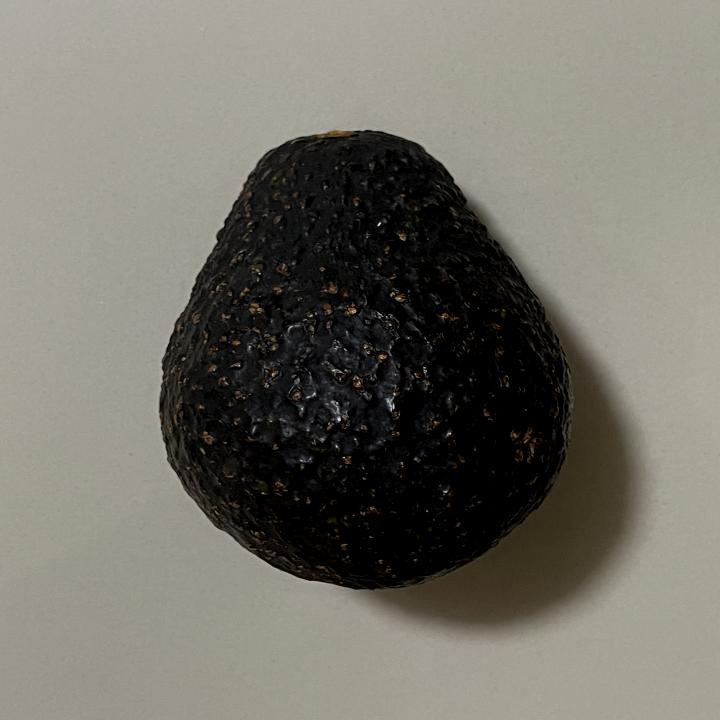Level2: (146, 125, 584, 595)
